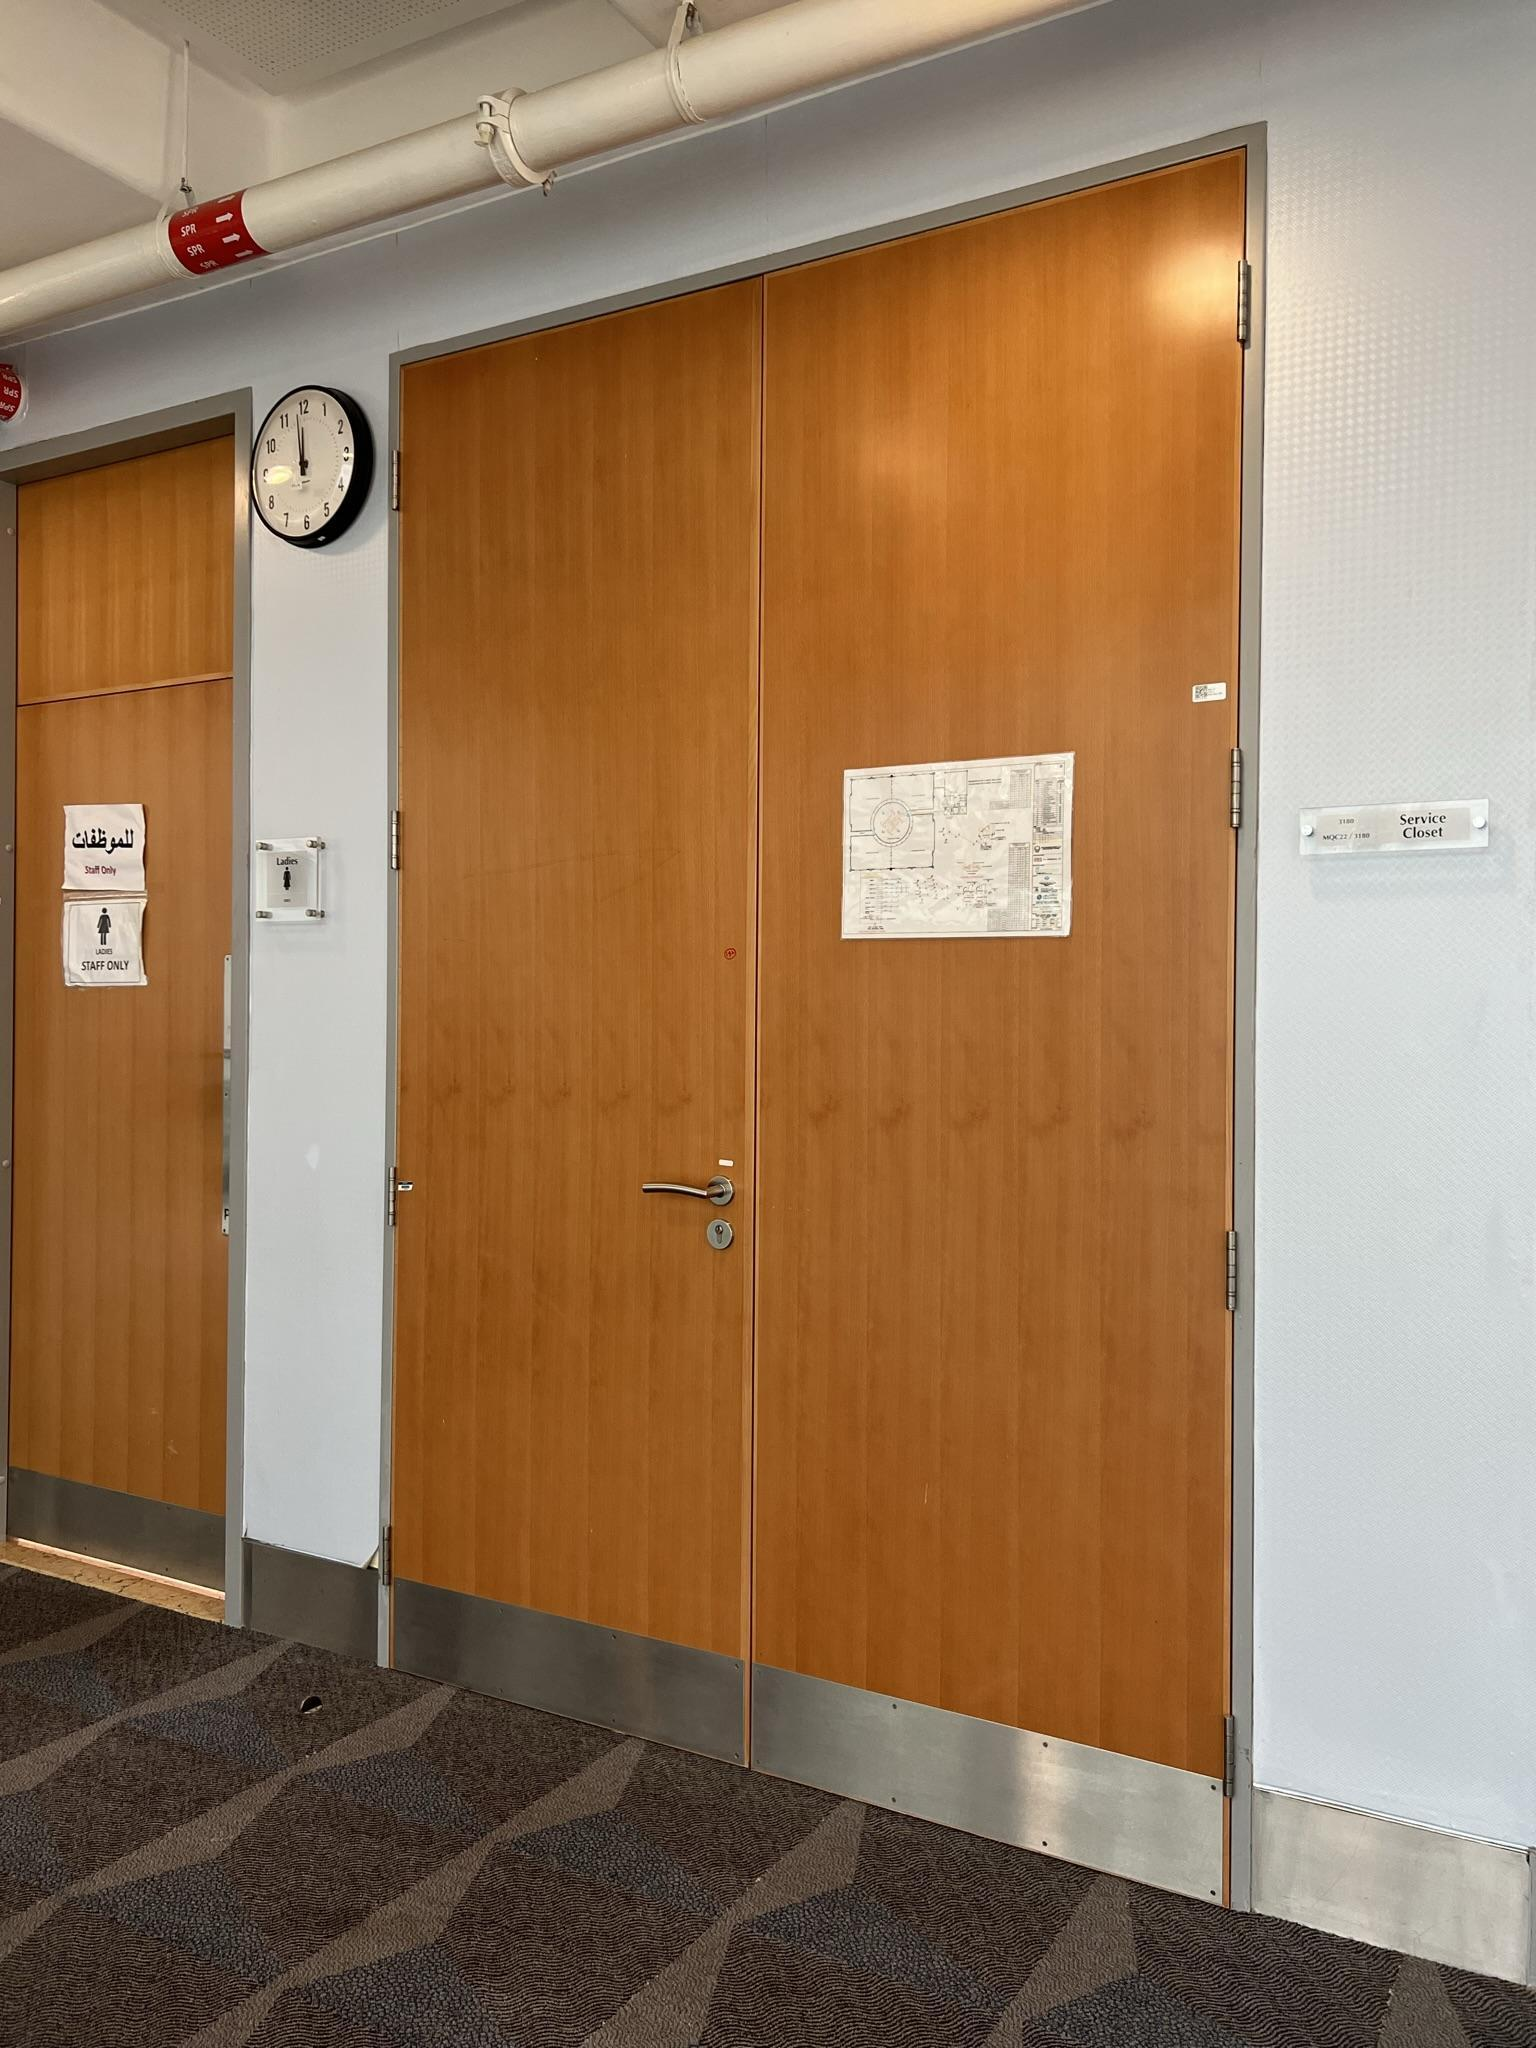door: (783, 261, 1265, 1866), (402, 306, 749, 1738), (0, 406, 269, 1638)
handle: (632, 1161, 749, 1263)
